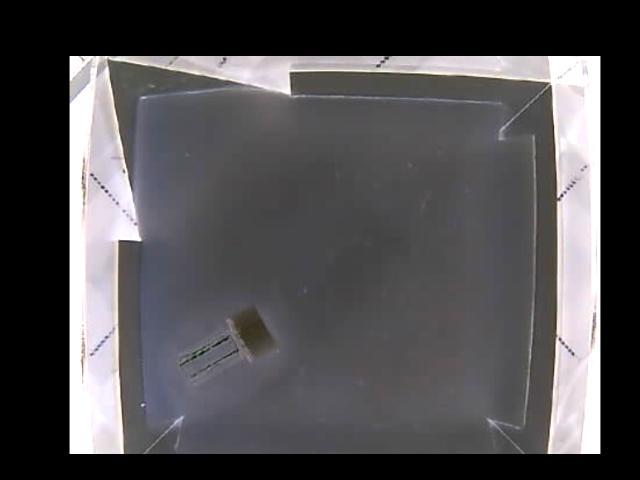Bottle: (177, 305, 277, 392)
